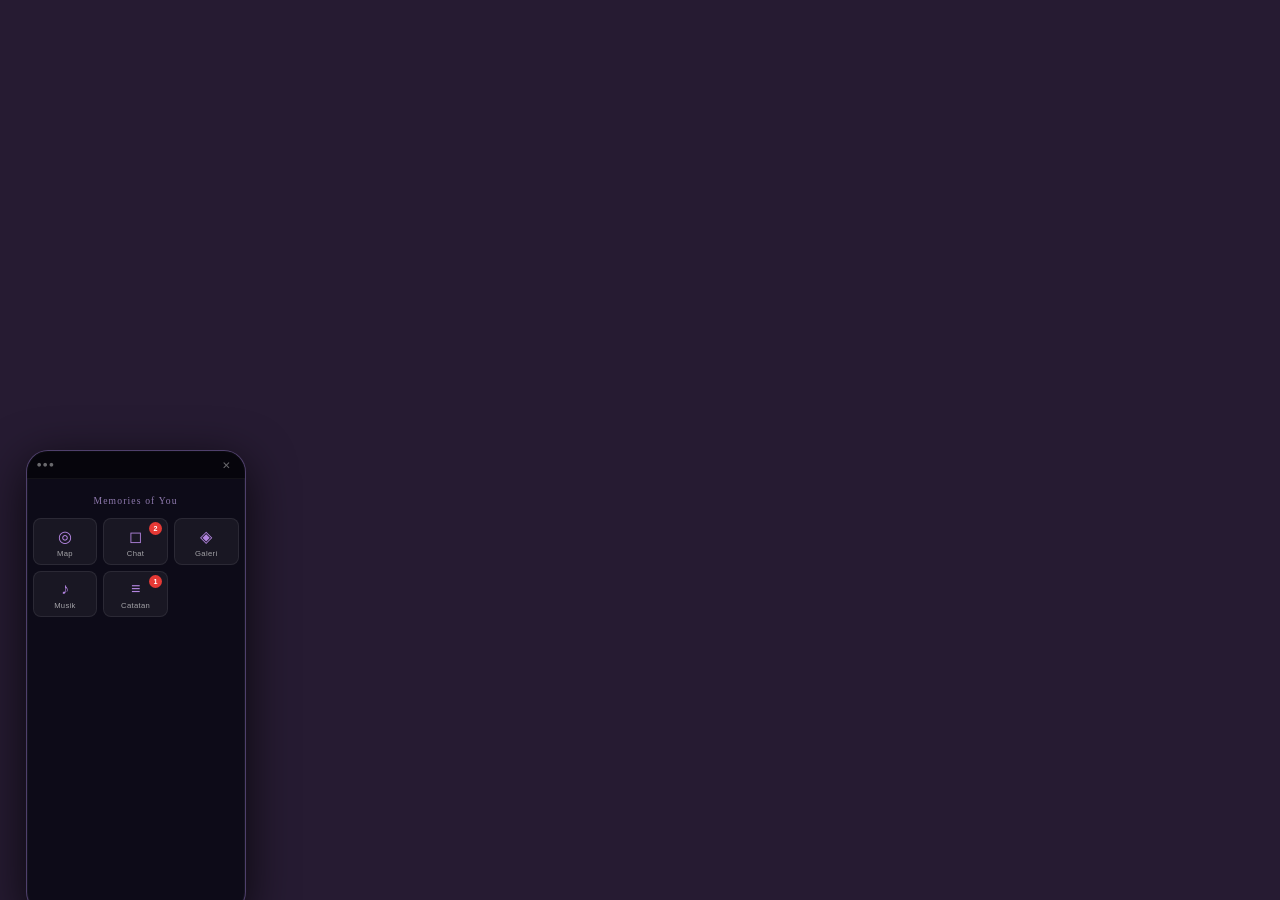
SmartphoneFrame › navigates to ChatApp when Chat icon is clicked
Click the button labelled "◻ Chat 2": [136, 542] box [103, 518, 168, 565]
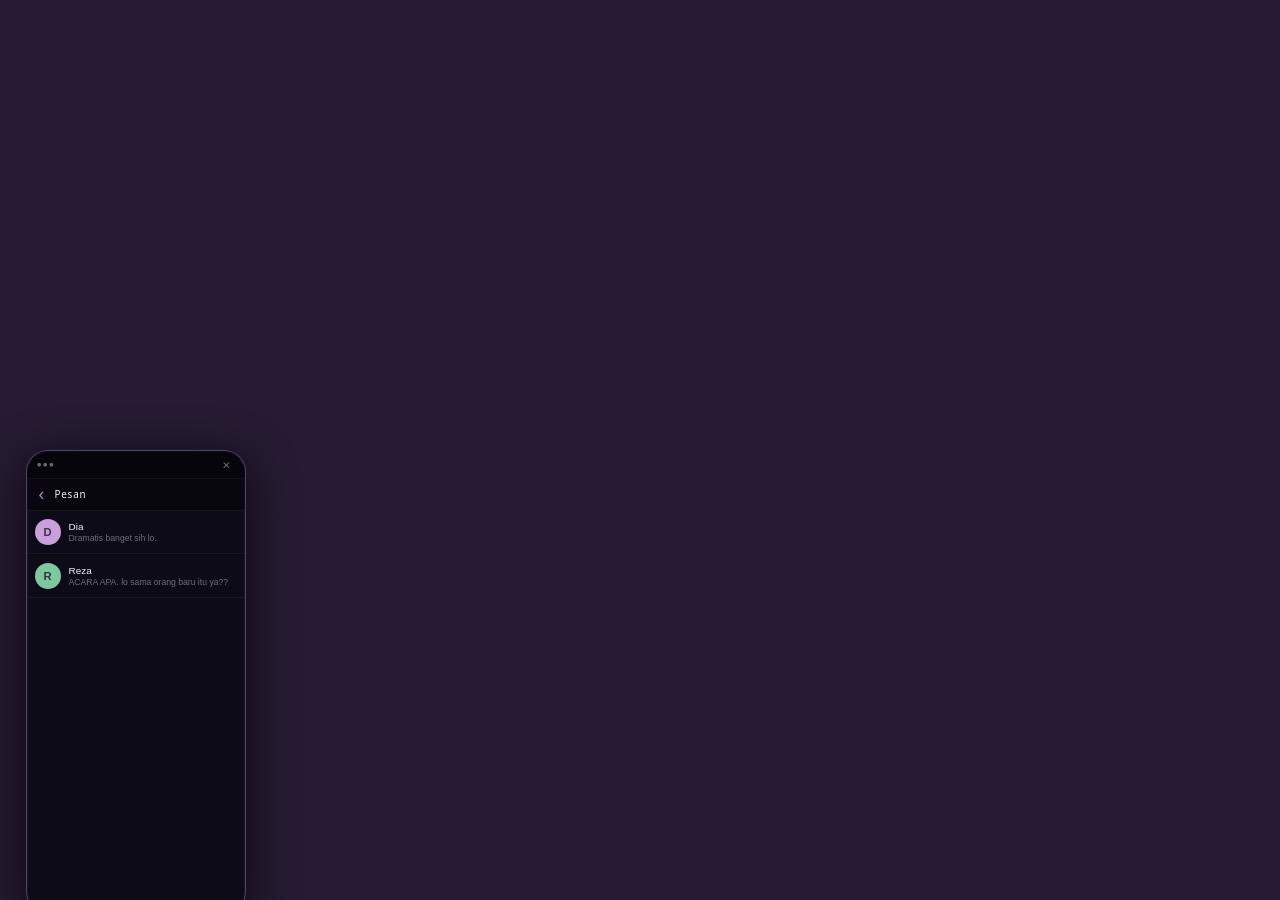
Expected: the text "Pesan" is shown, [54, 487, 86, 502]
